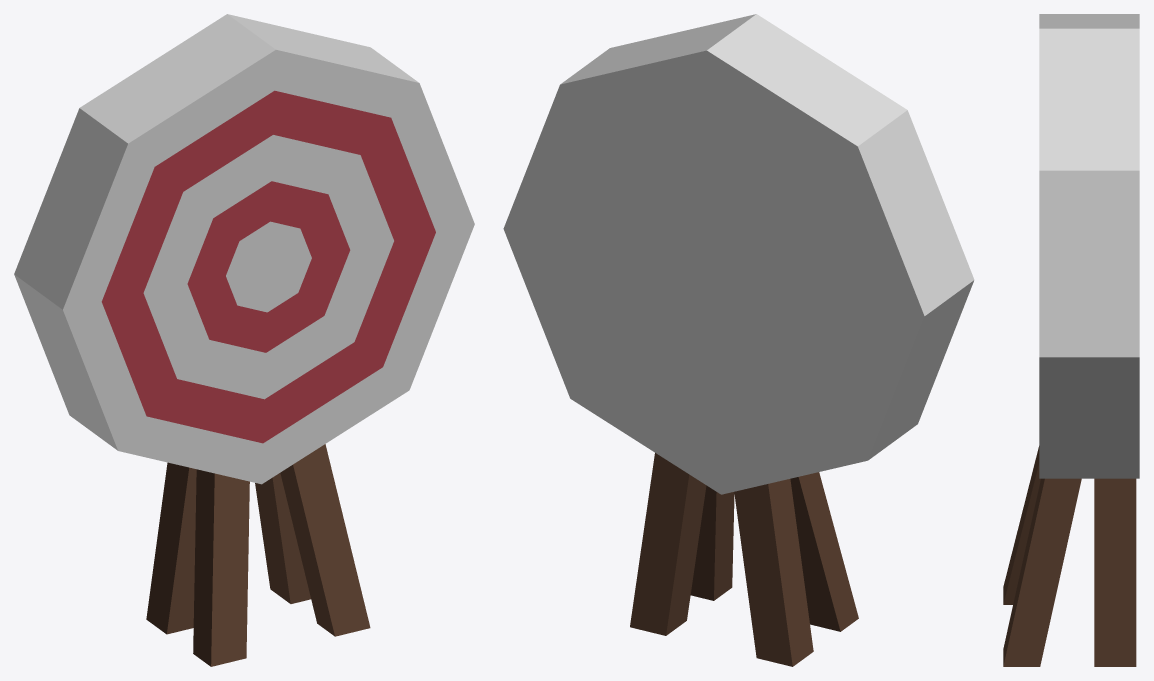
Rendered from Target.glb.
The picture shows the model from 3 angles, left to right: view 1: azimuth 30°, elevation 25°; view 2: azimuth 150°, elevation 25°; view 3: azimuth 270°, elevation 25°; orthographic projection. The views are drawn at different scales.
Visible parts, largest first — view 1: Target.005; view 2: Target.005; view 3: Target.005.
Boxes of the visible parts, x1=… form: Target.005: x1=14, y1=14, x2=474, y2=666; Target.005: x1=503, y1=14, x2=974, y2=666; Target.005: x1=1003, y1=14, x2=1139, y2=666.
Size of the model in its own units: 0.5264 by 0.7132 by 0.1469.
